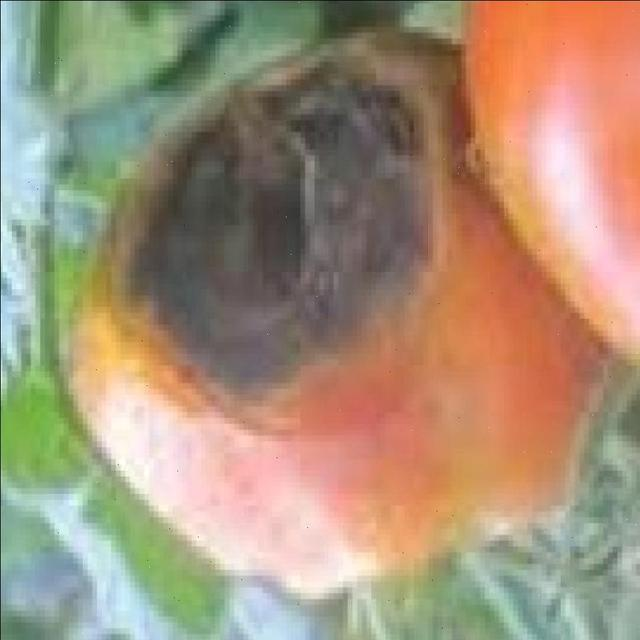Blossom End Rot Fruit: (61, 35, 291, 272)
